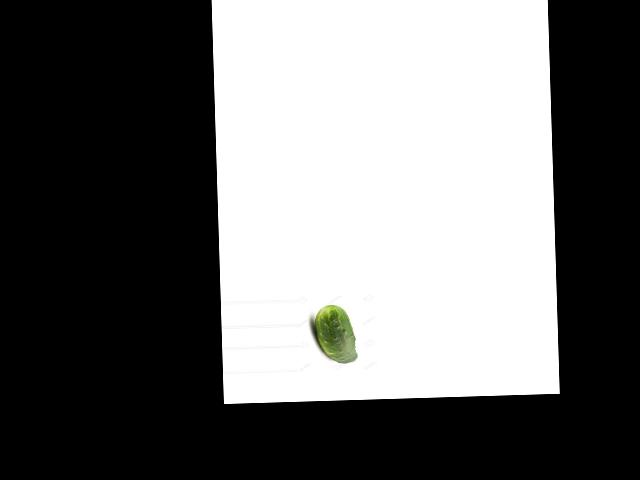cucumber: (314, 303, 357, 364)
